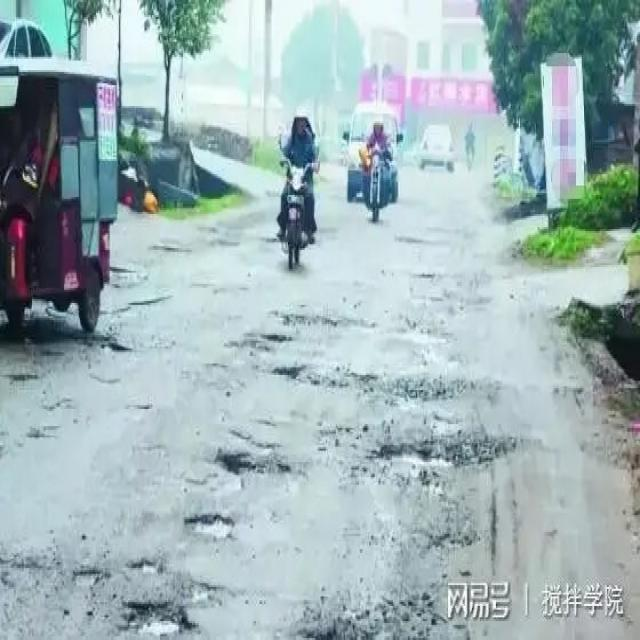Pothole: (381, 430, 528, 477), (390, 364, 482, 407), (121, 585, 197, 631), (328, 614, 441, 638), (216, 447, 287, 485), (279, 358, 358, 392), (270, 311, 362, 335), (186, 510, 238, 548)
